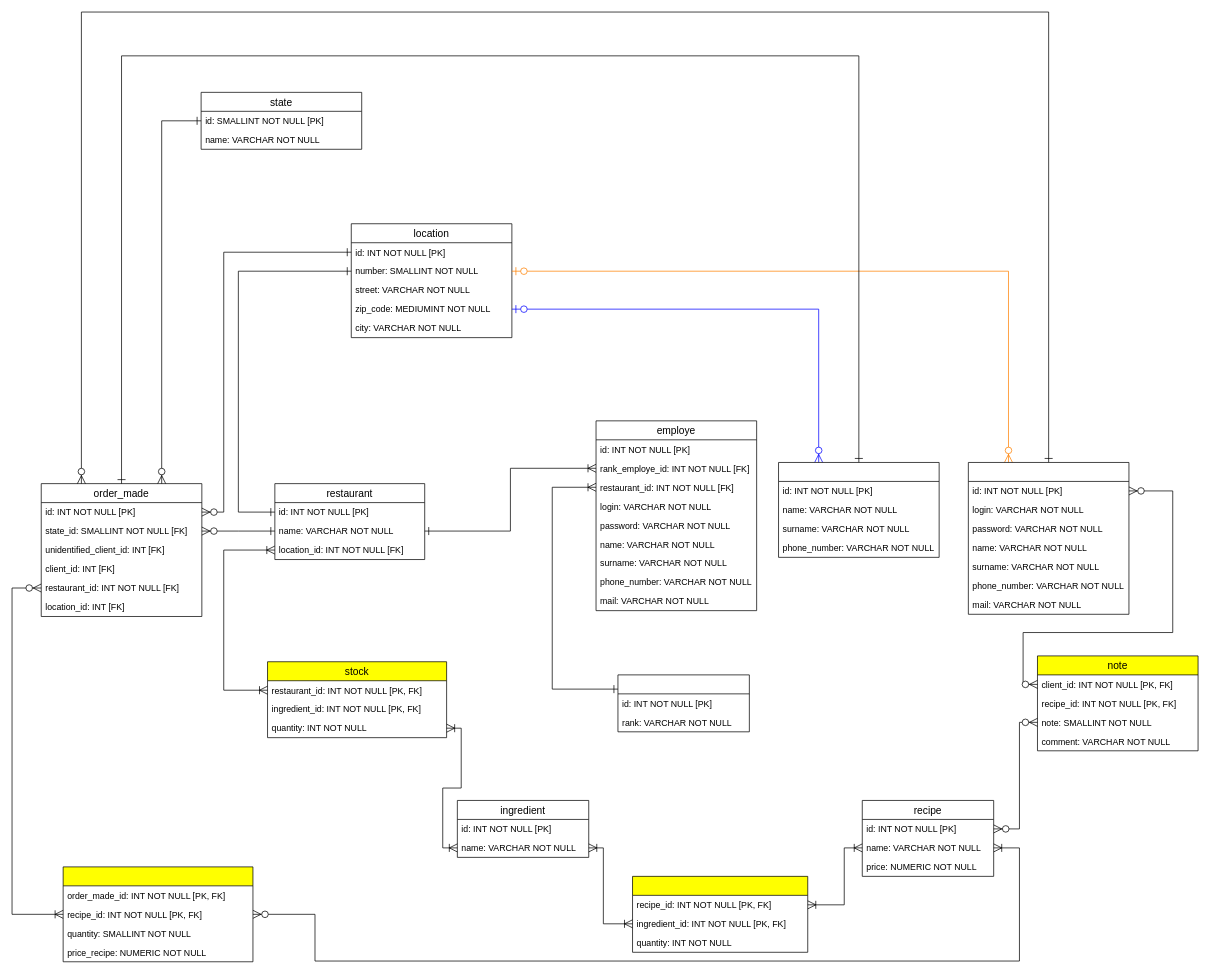
Image size: 1210x974. Some labels were removed from this diagram. Each missing label, with the box of its shape:
cart: (62, 866, 253, 962)
client: (968, 462, 1129, 614)
composition: (632, 876, 808, 952)
rank_employe: (617, 674, 749, 732)
unidentified_client: (778, 462, 939, 557)
